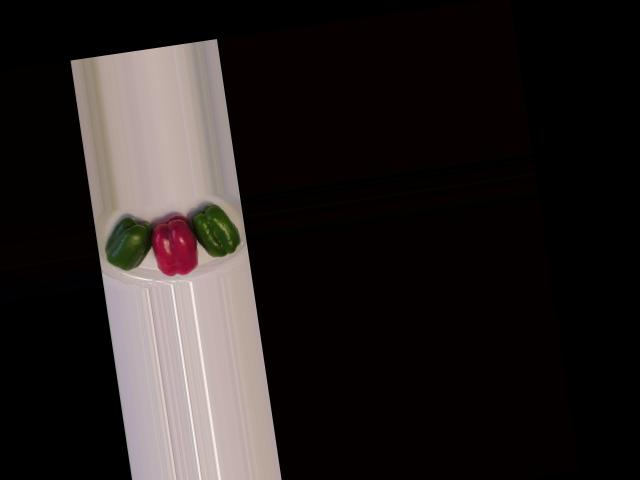bell_pepper: (97, 209, 158, 280)
